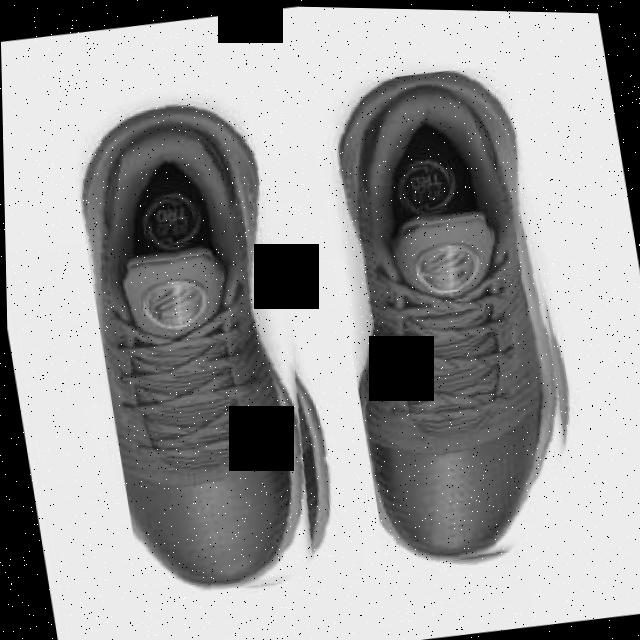shoe: (64, 83, 345, 604), (308, 57, 591, 574)
